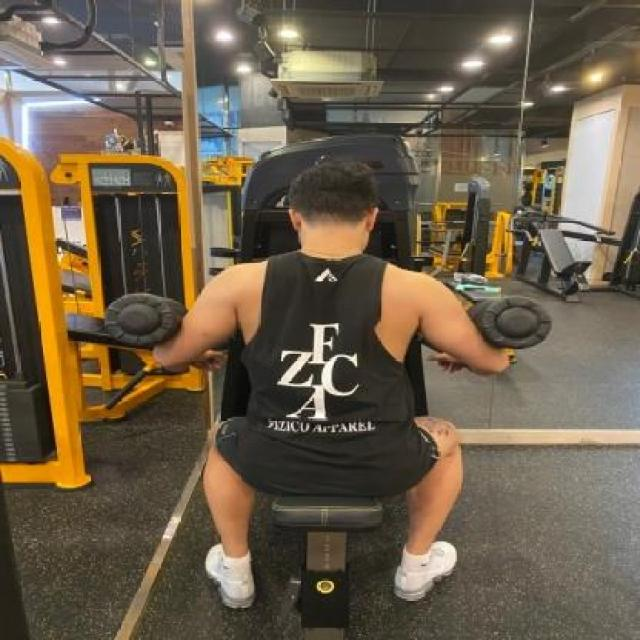lateral raises machine: (91, 294, 557, 631)
